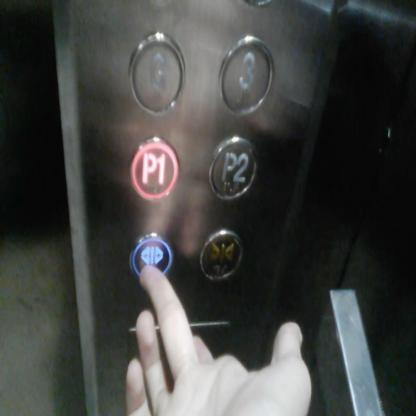3: (216, 34, 275, 120)
G: (128, 30, 187, 120)
P1: (128, 132, 180, 204)
P2: (207, 133, 258, 204)
close: (198, 228, 244, 284)
open: (128, 231, 174, 290)
